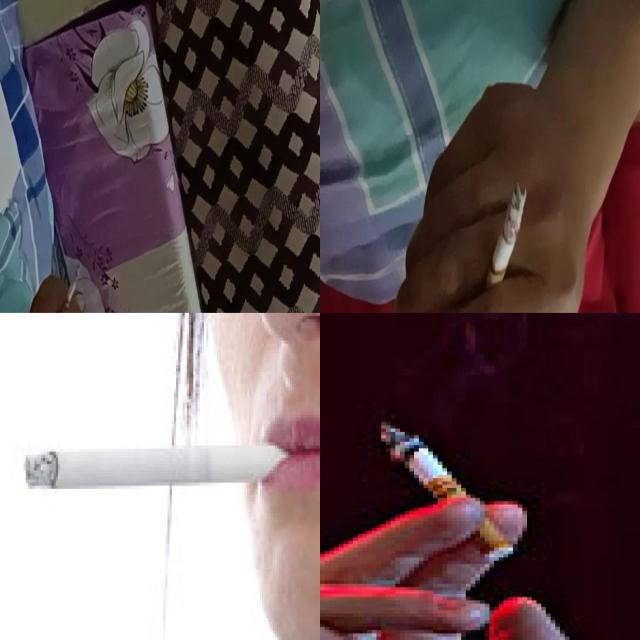smoking: (367, 416, 509, 554), (24, 443, 291, 489), (482, 186, 528, 304), (58, 263, 82, 312)
